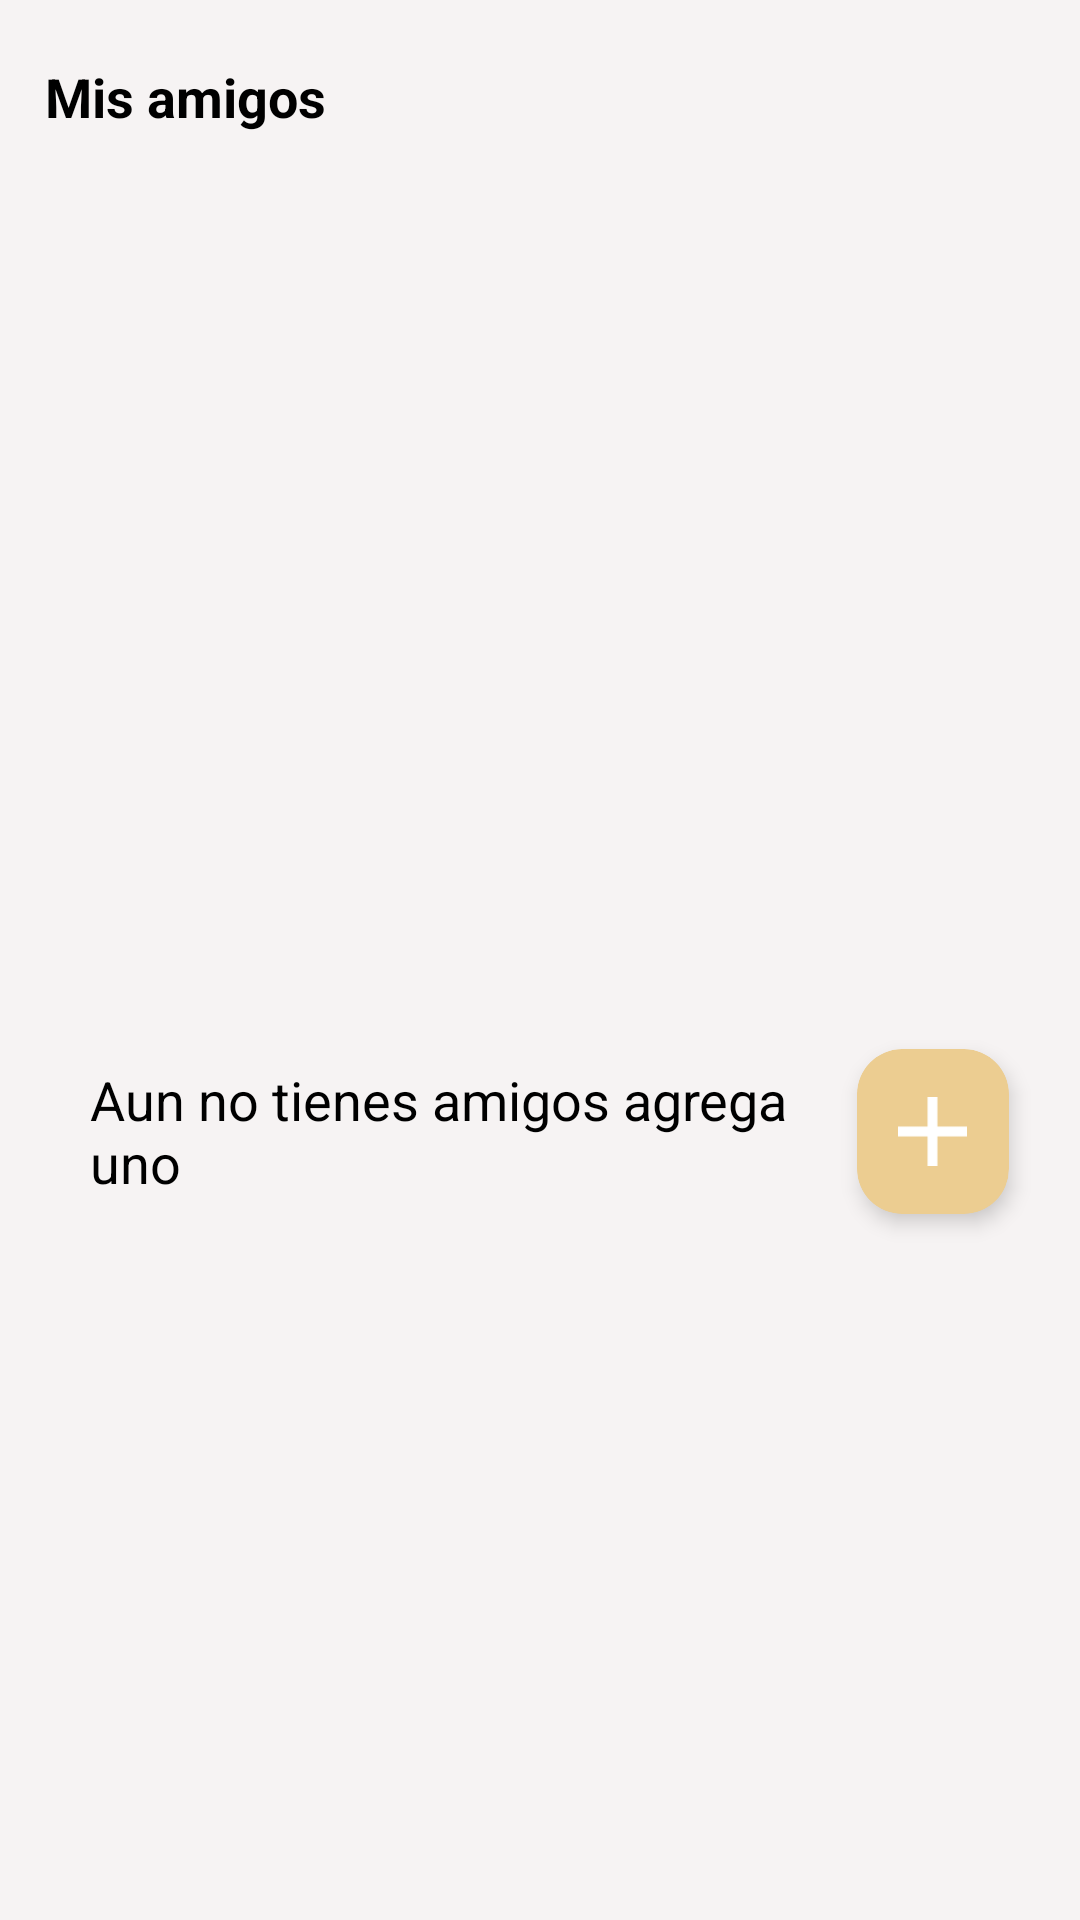

Icons on this 1080px×1920px Android screen, each with the point to tap as (x=x, y=y):
plus: (x=932, y=1131)
